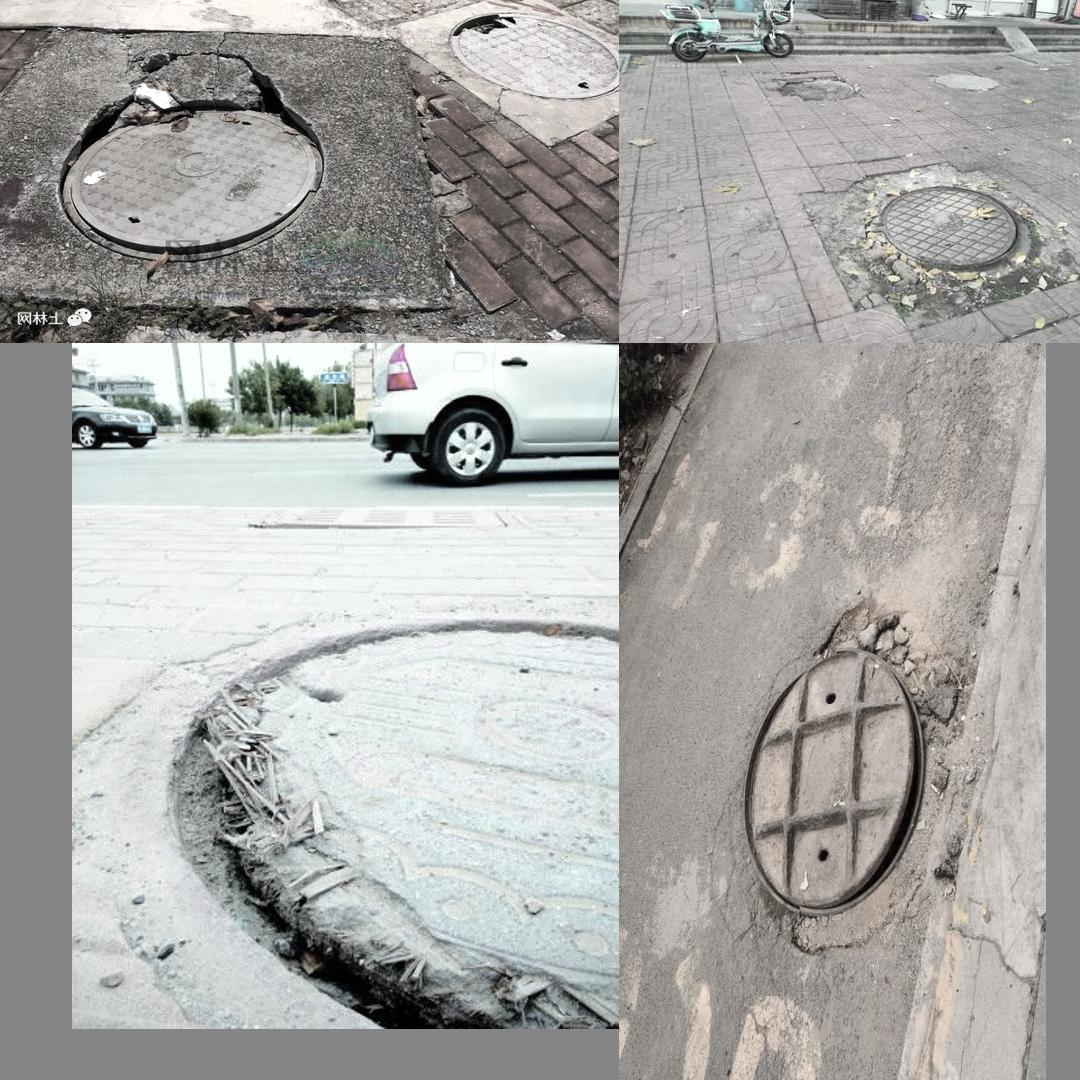circle: (103, 597, 609, 1015), (0, 17, 461, 311), (713, 591, 997, 977), (811, 161, 1070, 324)
